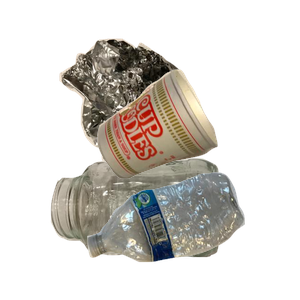glass: (48, 156, 260, 300)
metal: (57, 36, 241, 216)
plastic: (85, 170, 300, 300)
trash: (95, 67, 300, 238)
